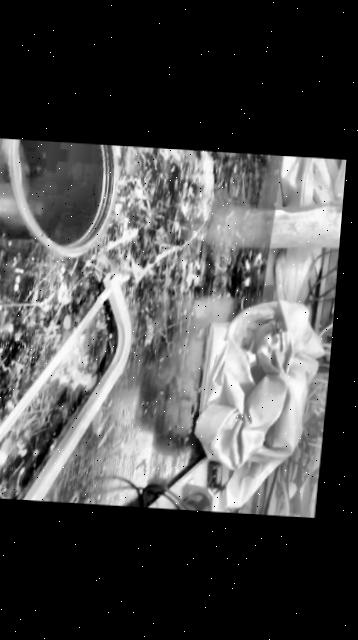pot: (0, 138, 119, 257)
